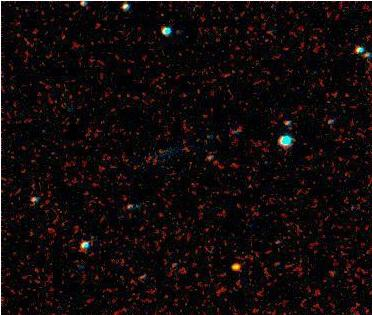star: (221, 251, 251, 281)
